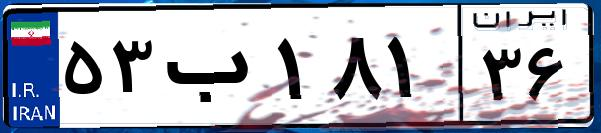1: (270, 28, 330, 110), (385, 28, 445, 110)
3: (475, 38, 525, 113), (110, 28, 158, 98)
5: (57, 26, 110, 100)
6: (525, 38, 570, 115)
8: (330, 28, 385, 110)
ب: (158, 20, 270, 120)
